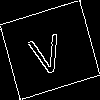V: (24, 24, 68, 77)
